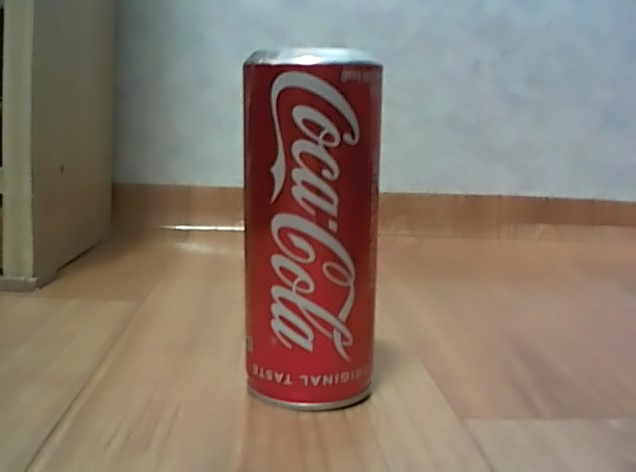Can: (233, 39, 385, 417)
